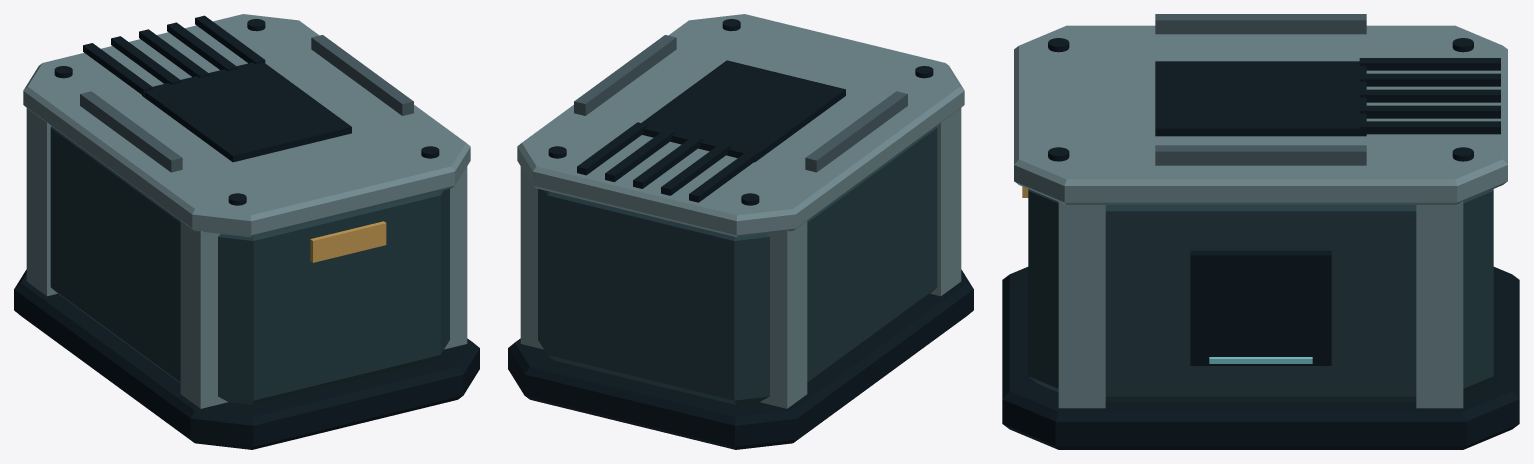
File: cassette_d0_lod0.glb
3 renders of one model, left to right at view 1: azimuth 30°, elevation 25°; view 2: azimuth 150°, elevation 25°; view 3: azimuth 270°, elevation 25°, orthographic. The views are drawn at different scales.
Visible parts, largest first — view 1: CASSETTE_SHELL; view 2: CASSETTE_SHELL; view 3: CASSETTE_SHELL, CAPACITY_INDICATOR.
Boxes of the visible parts, left/top/right/bottom form: CASSETTE_SHELL: left=14, top=14, right=479, bottom=449; CASSETTE_SHELL: left=508, top=14, right=973, bottom=449; CASSETTE_SHELL: left=1002, top=14, right=1519, bottom=449; CAPACITY_INDICATOR: left=1209, top=357, right=1312, bottom=363.
Bounding box in the file's own units: 1.65 × 1.35 × 2.2.
